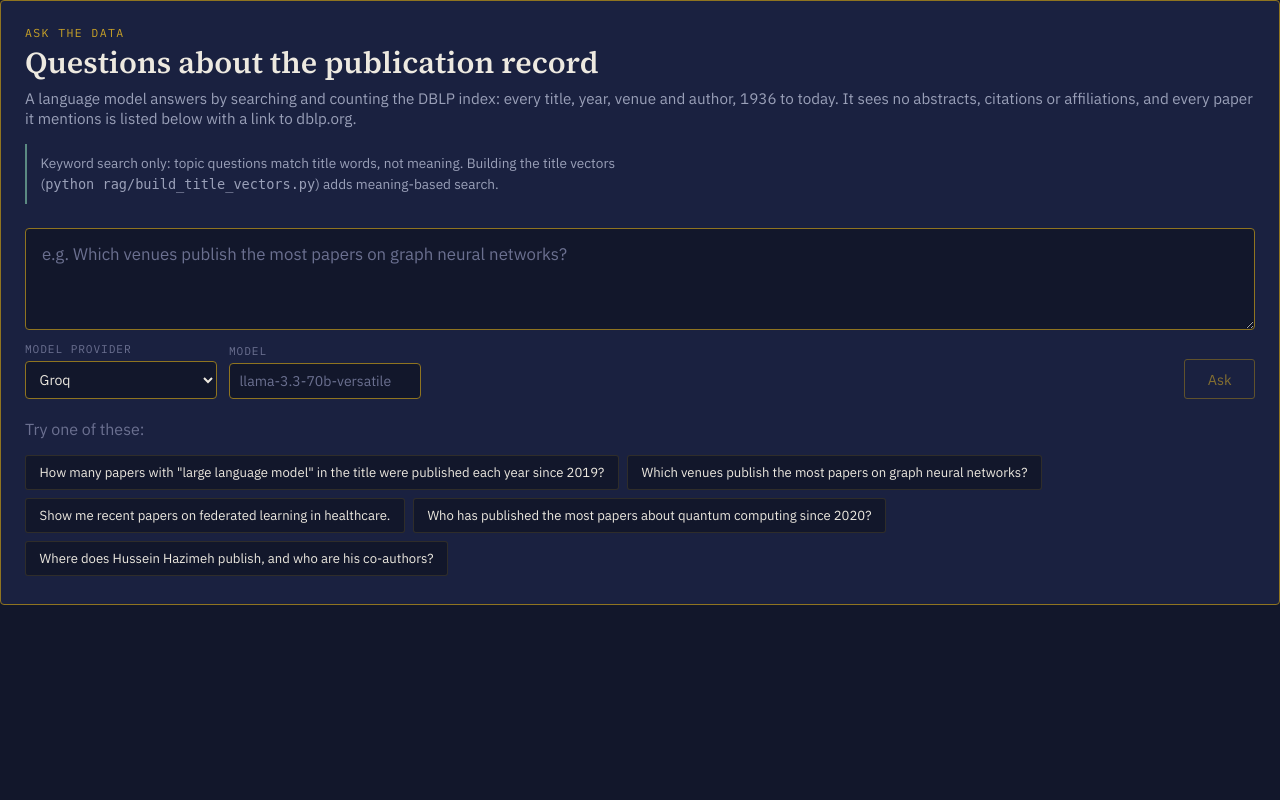
AskPage › shows a provider error such as a rate limit
This screenshot has width=1280, height=800.
Type "q" into the text box named "Your question".
click(640, 279); type("q")  # box x1=25 y1=228 x2=1255 y2=330
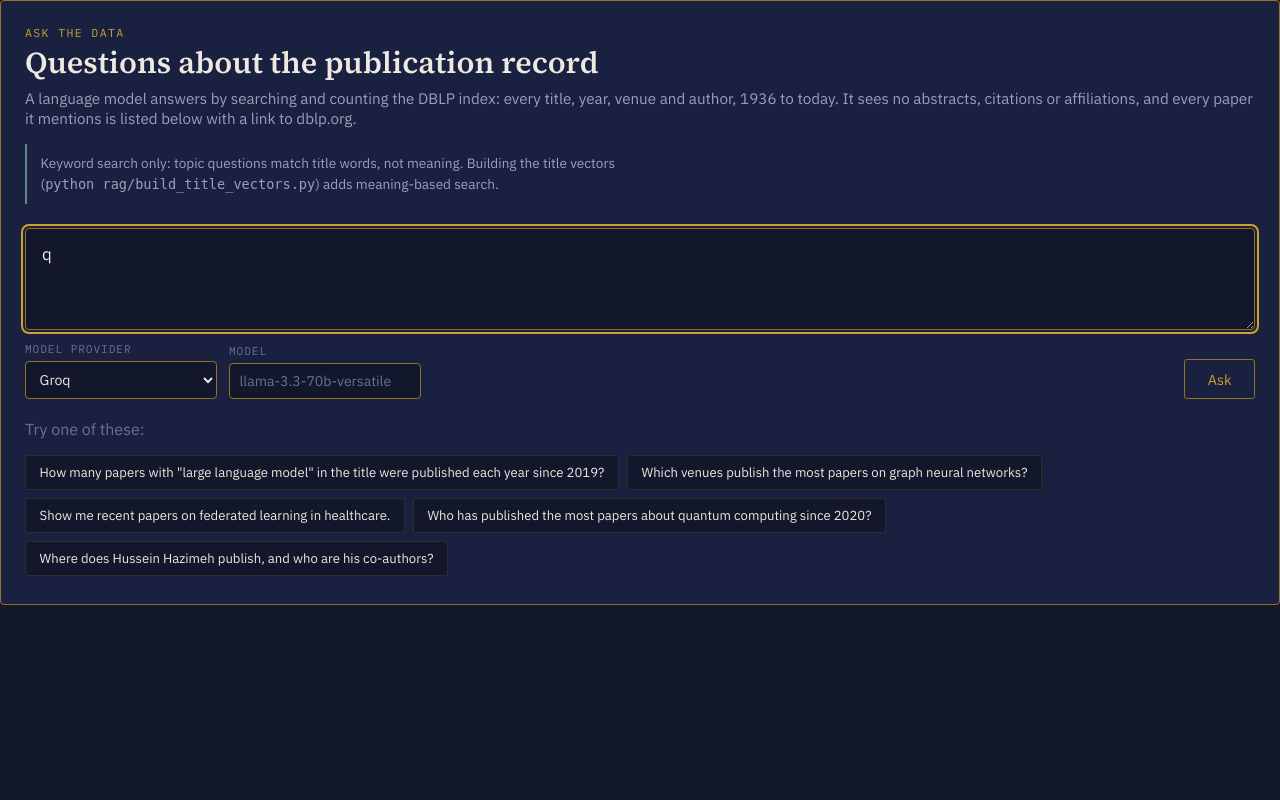
Click the button "Ask".
click(1220, 379)  # box x1=1184 y1=359 x2=1255 y2=400
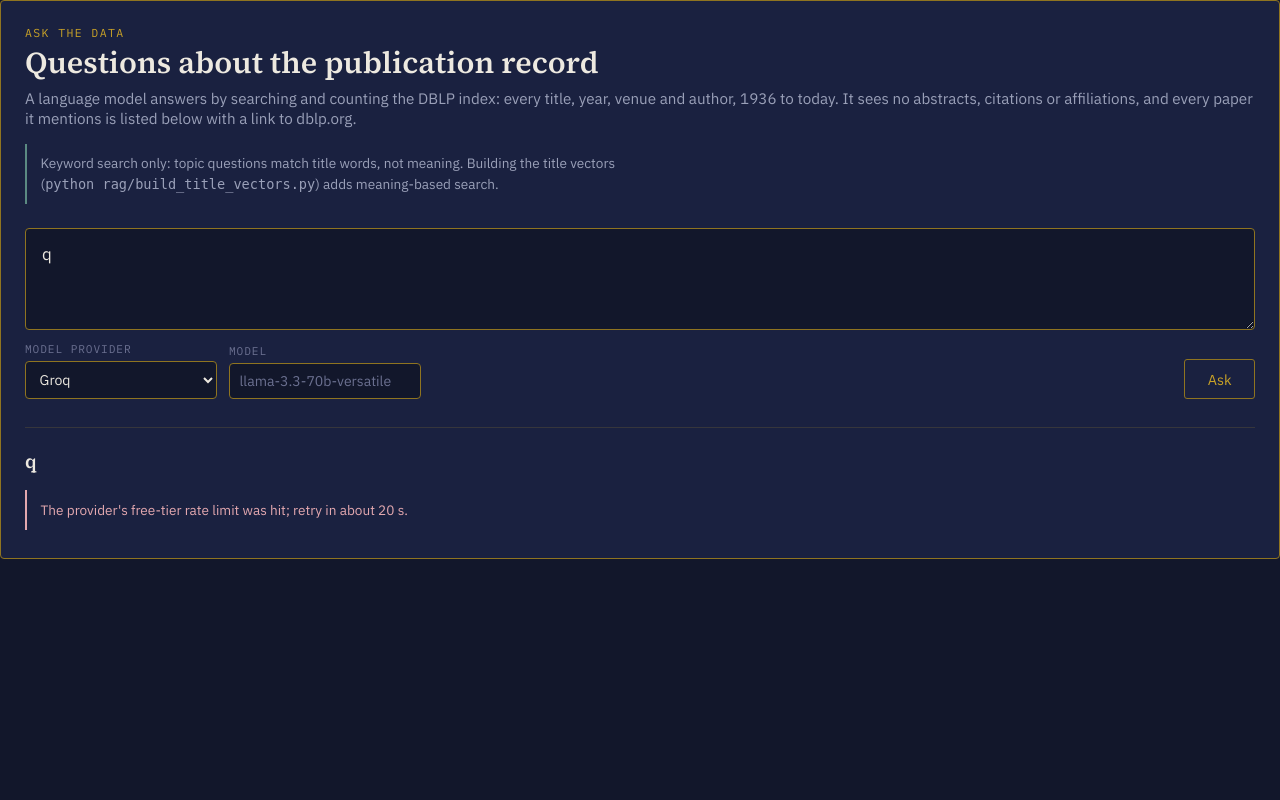
expect the message shows "rate limit was hit; retry in about 20 s": met, box x1=41 y1=501 x2=408 y2=519
